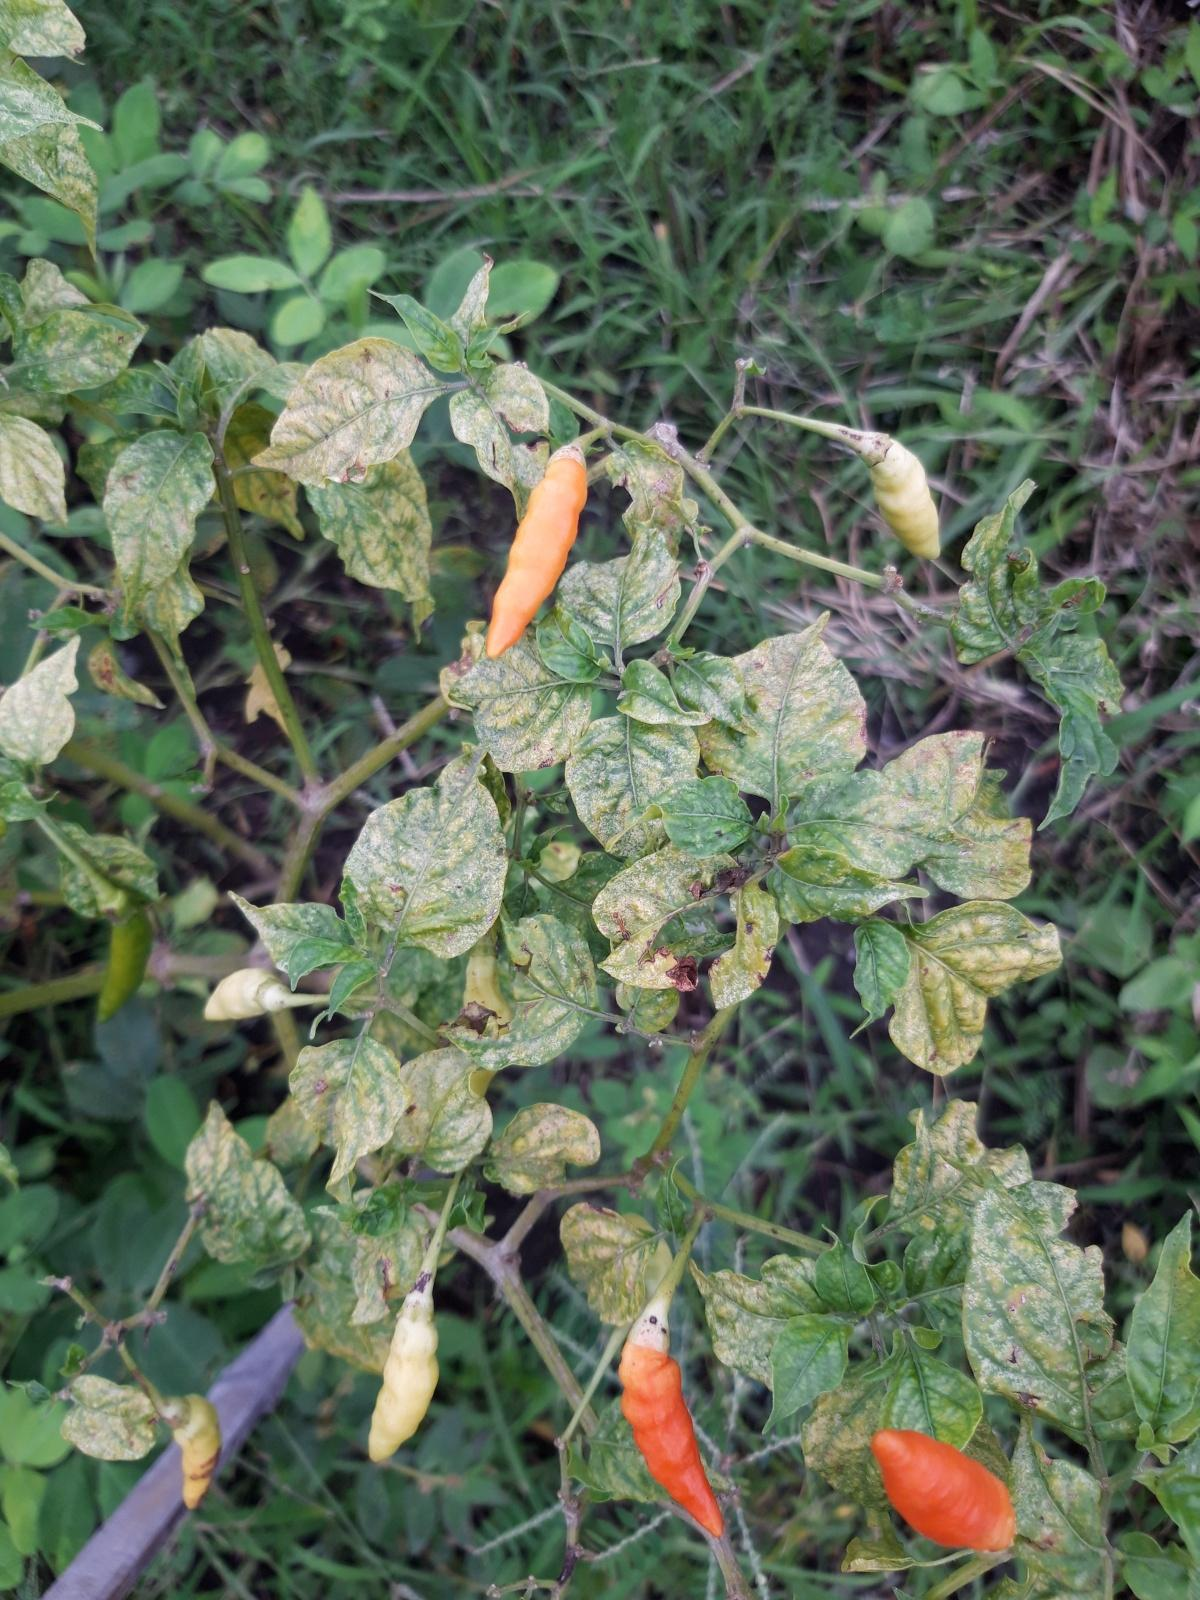cabai_normal: (618, 1335, 724, 1540), (485, 455, 586, 658), (871, 1429, 1016, 1556), (367, 1310, 440, 1463), (84, 897, 156, 1024), (870, 436, 942, 562), (204, 969, 287, 1022)
lalat_buah: (173, 1396, 222, 1511)
